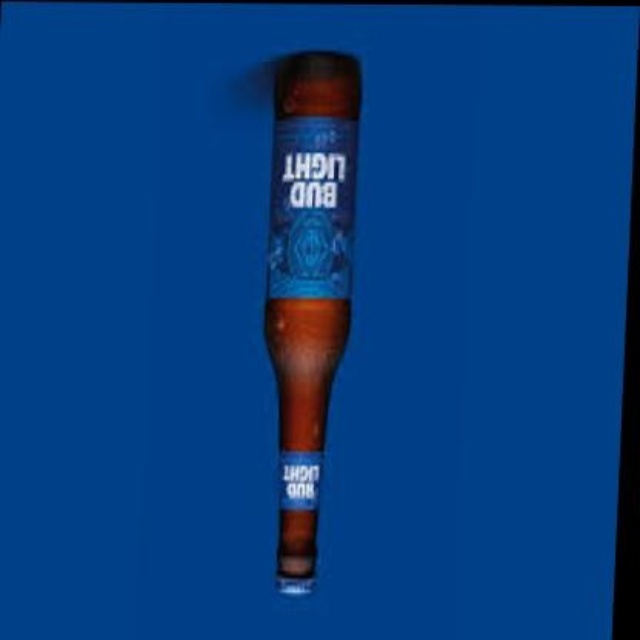trash: (266, 52, 358, 592)
